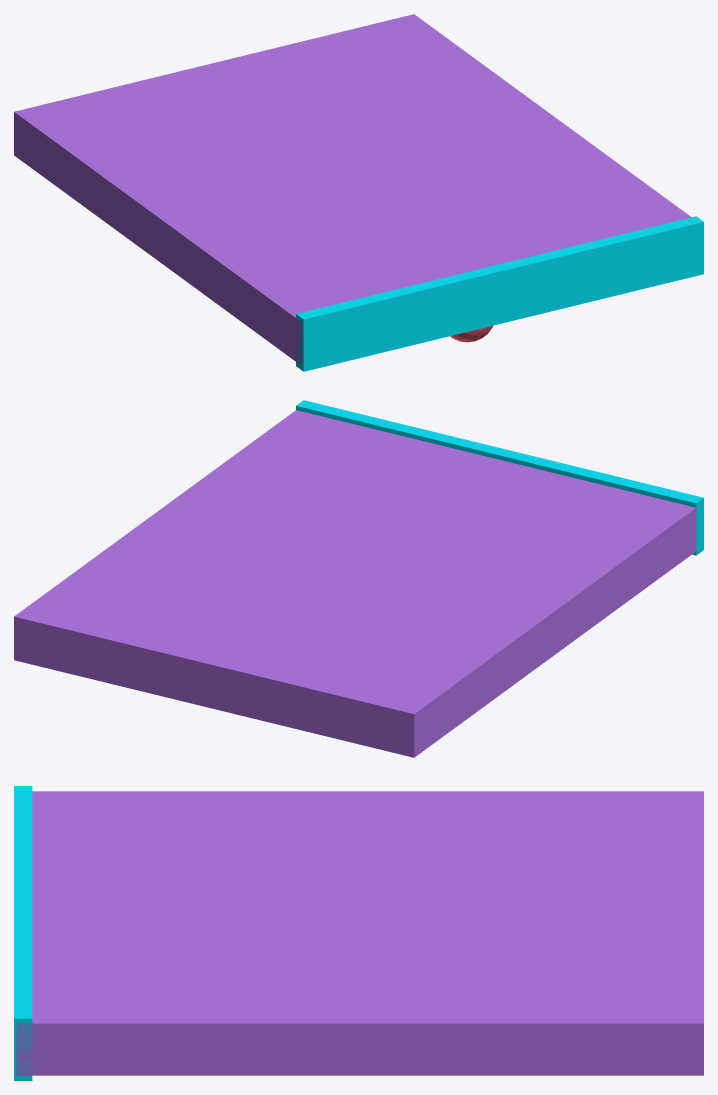
Rendered from modelo.glb.
3 renders of one model, top to bottom at view 1: azimuth 30°, elevation 25°; view 2: azimuth 150°, elevation 25°; view 3: azimuth 270°, elevation 25°, orthographic. The views are drawn at different scales.
Parts seen in each view (by area): view 1: cartao_elemento, borda; view 2: cartao_elemento, borda; view 3: cartao_elemento, borda.
Part boxes in pixels (x1,y1,x2,y2): cartao_elemento: [14, 14, 691, 365]; borda: [296, 216, 703, 371]; cartao_elemento: [14, 410, 696, 757]; borda: [296, 400, 703, 555]; cartao_elemento: [16, 791, 703, 1075]; borda: [14, 786, 32, 1080].
Bounding box in the file's own units: 0.24 × 0.055 × 0.301.
